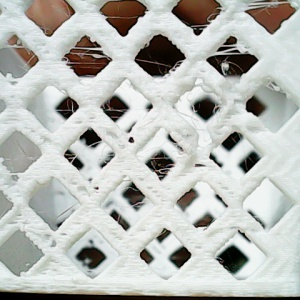3dpstringing: (65, 44, 109, 82), (66, 139, 118, 171), (212, 39, 251, 79), (173, 94, 210, 136), (97, 99, 152, 123), (134, 59, 188, 83), (4, 38, 38, 71), (2, 155, 45, 181), (235, 1, 292, 19), (191, 6, 225, 36), (137, 155, 179, 179), (117, 198, 150, 227), (51, 98, 82, 118), (261, 79, 286, 95)
3dpunderextrusion: (12, 209, 76, 253), (215, 84, 262, 137), (64, 176, 109, 207), (104, 126, 140, 150)
